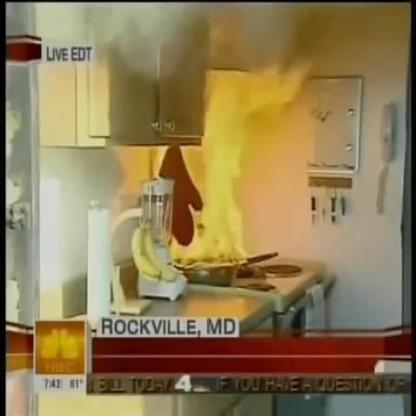fire: (160, 60, 311, 268)
